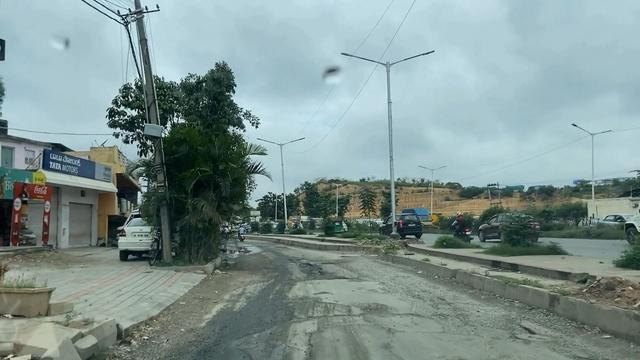RoadDamages: (276, 290, 366, 360), (368, 287, 476, 332), (503, 309, 572, 354), (291, 252, 356, 285)
